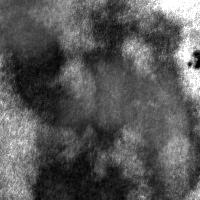patches: (55, 54, 193, 192), (89, 1, 180, 144), (1, 1, 86, 140), (24, 124, 162, 200), (28, 149, 129, 199), (0, 0, 72, 60)
